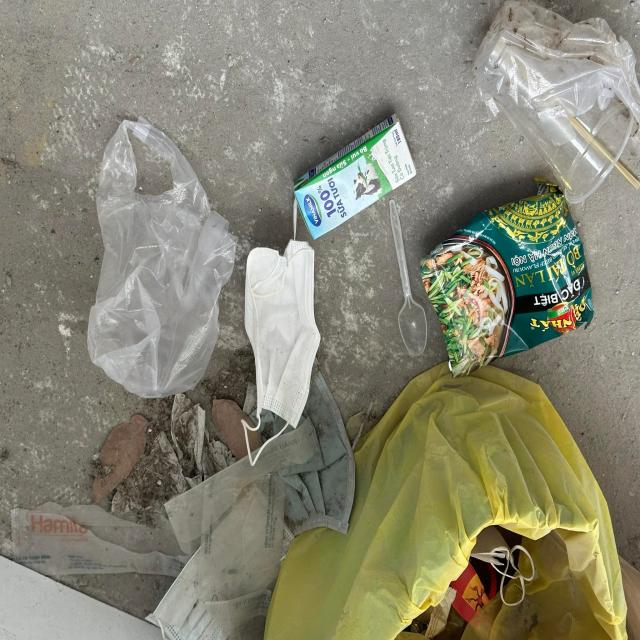bag: (86, 123, 236, 397)
mask: (146, 483, 296, 640), (243, 240, 319, 464), (290, 373, 356, 531)
milk box: (295, 110, 416, 242)
packet: (167, 416, 321, 556)
paper: (10, 501, 185, 569)
plastic glass: (471, 0, 635, 207)
plastic utensil: (391, 198, 428, 357)
snack package: (420, 187, 593, 375)
trash bag: (264, 366, 626, 640)
